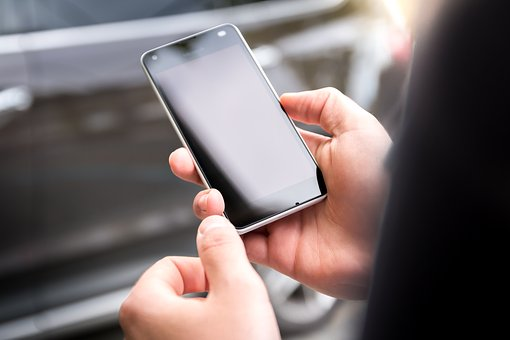mobile: (135, 21, 337, 222)
